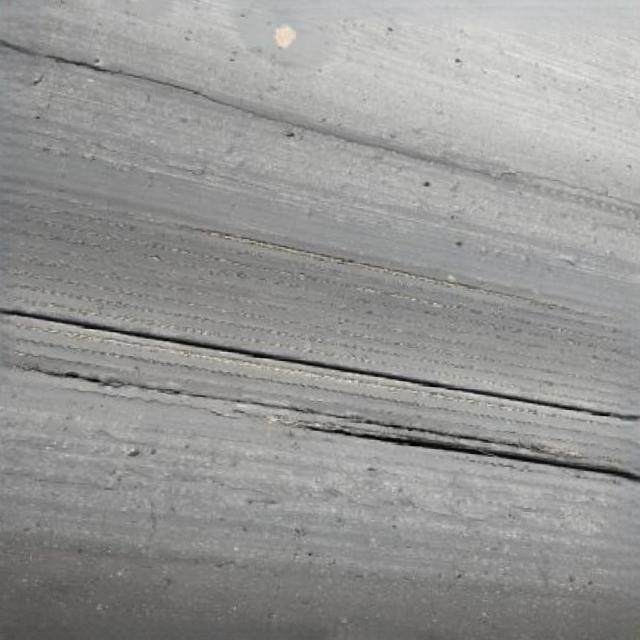Tear: (1, 297, 637, 424), (0, 352, 551, 454), (278, 414, 632, 487), (18, 38, 248, 120)
Wear: (0, 184, 640, 420)
